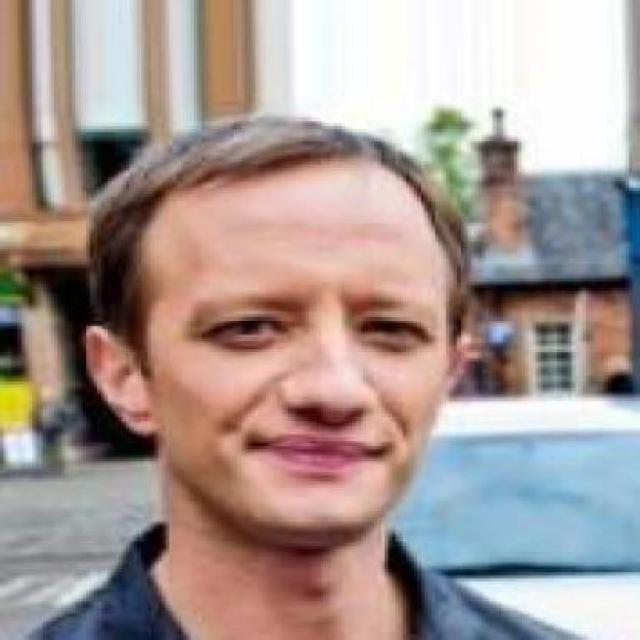closed-mouth: (256, 428, 381, 470)
